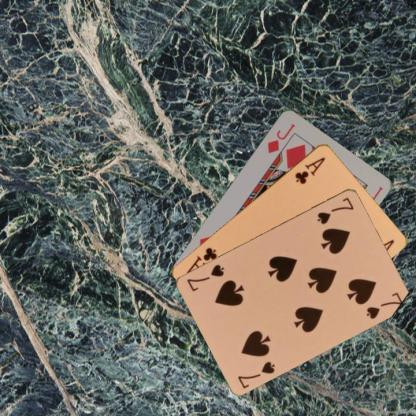7s: (235, 358, 277, 390), (314, 194, 356, 225)
Ac: (292, 154, 326, 186)
Jd: (264, 121, 296, 154)
